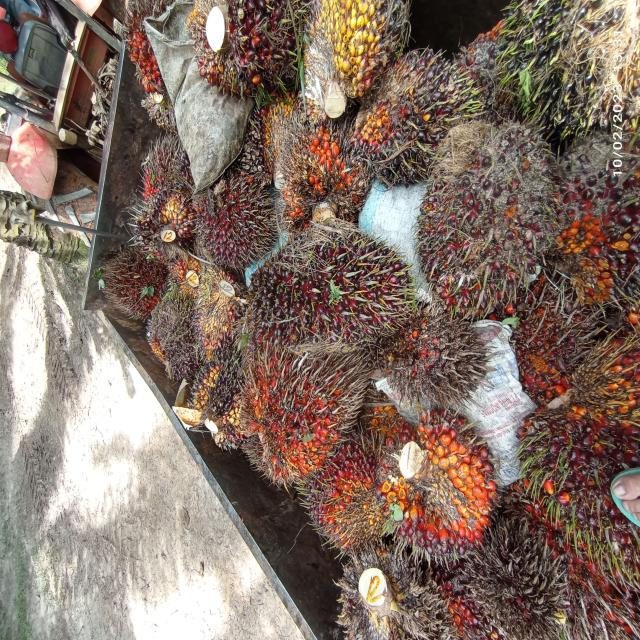fraksi 00: (351, 42, 486, 188), (506, 0, 640, 131), (195, 314, 255, 459), (145, 286, 214, 378)
fraksi 1: (245, 198, 422, 376), (418, 112, 558, 322), (515, 314, 640, 531), (561, 144, 640, 314), (296, 431, 386, 567), (189, 169, 264, 266), (137, 150, 190, 243)
fraksi 3: (376, 404, 500, 582)
fraksi 4: (240, 330, 360, 487), (276, 112, 357, 232), (101, 237, 175, 320)
